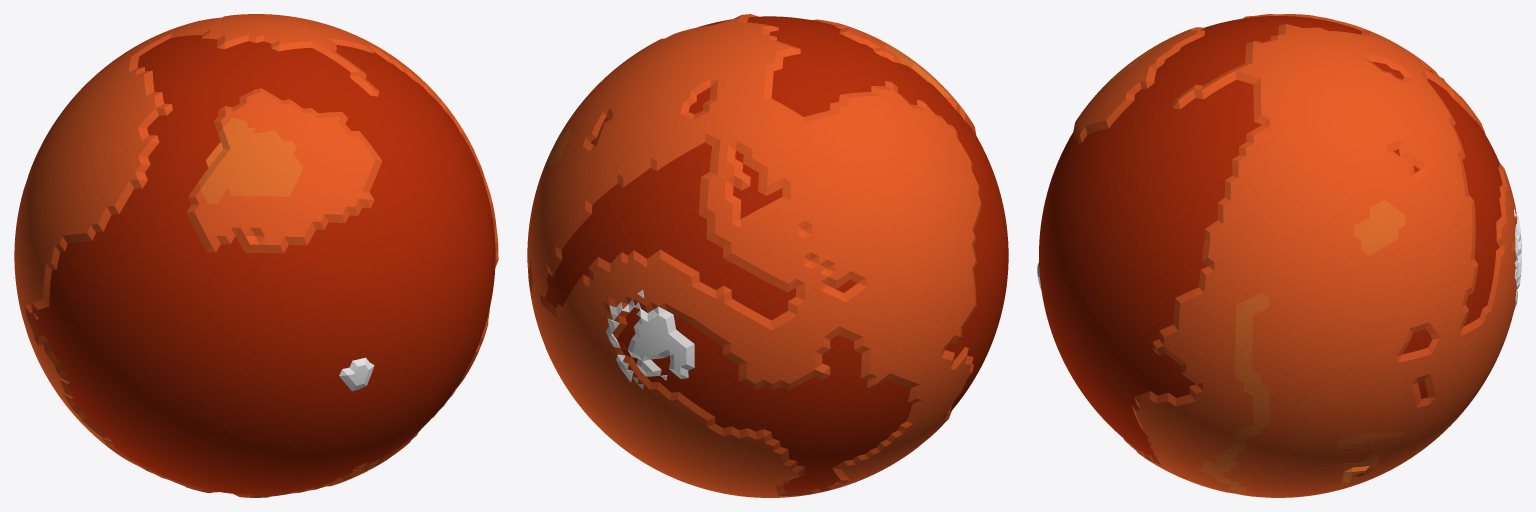
The model's file is mars.fbx.
The picture shows the model from 3 angles, left to right: view 1: azimuth 30°, elevation 25°; view 2: azimuth 150°, elevation 25°; view 3: azimuth 270°, elevation 25°; orthographic projection.
Visible parts, largest first — view 1: Icosphere; view 2: Icosphere; view 3: Icosphere.
Boxes of the visible parts, <box> form: Icosphere: <box>14,14,498,497</box>; Icosphere: <box>527,14,1008,497</box>; Icosphere: <box>1037,14,1521,497</box>.
Size of the model in its own units: 21573 by 21582 by 21554.
